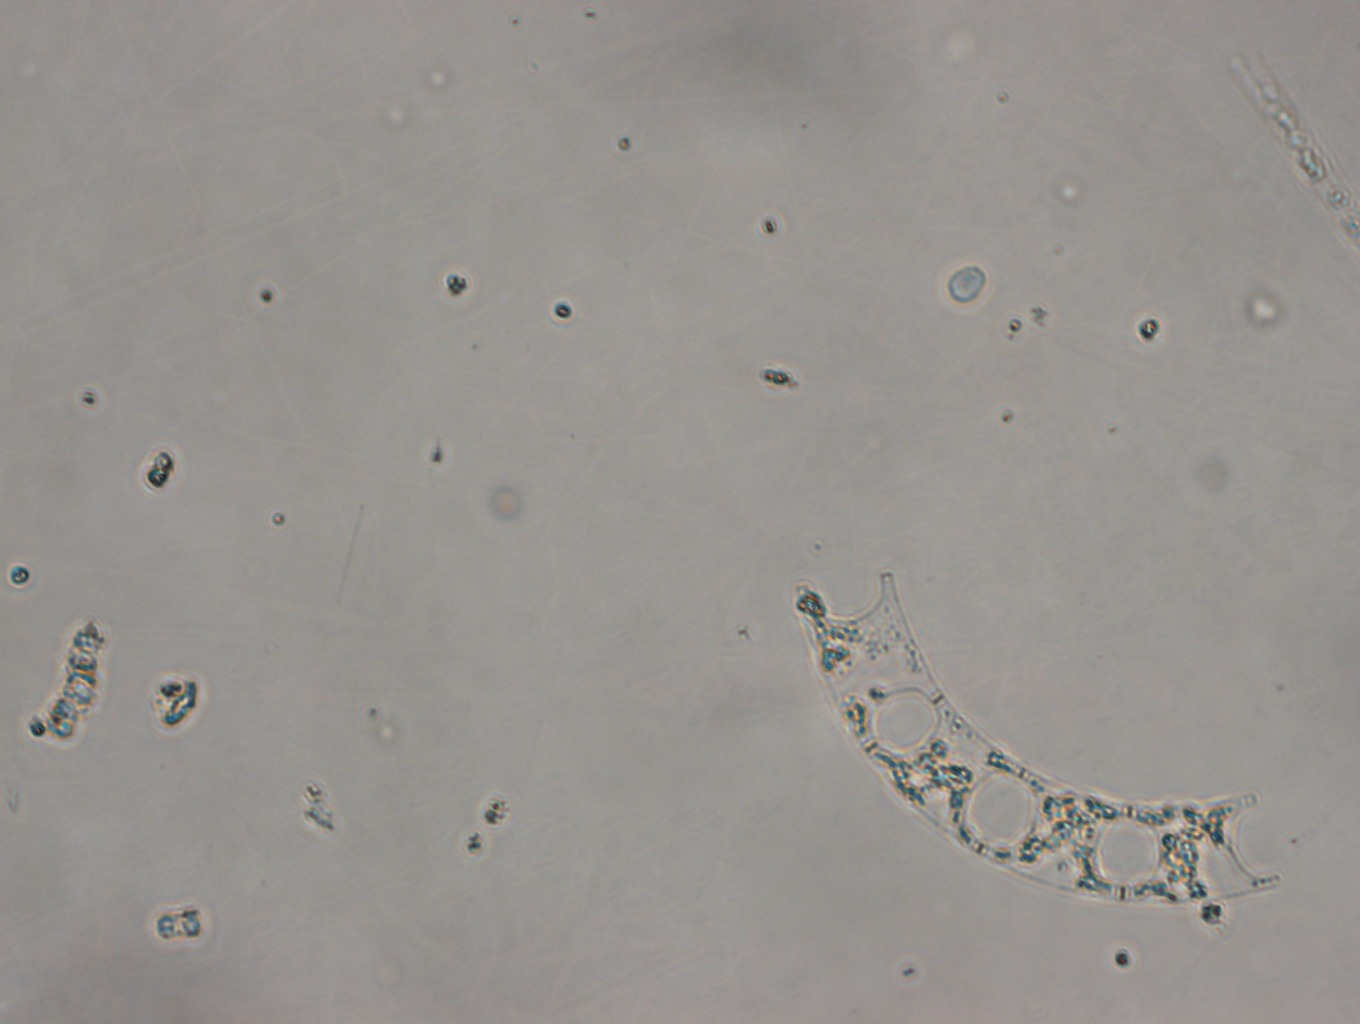eucampia: (798, 568, 1294, 913)
